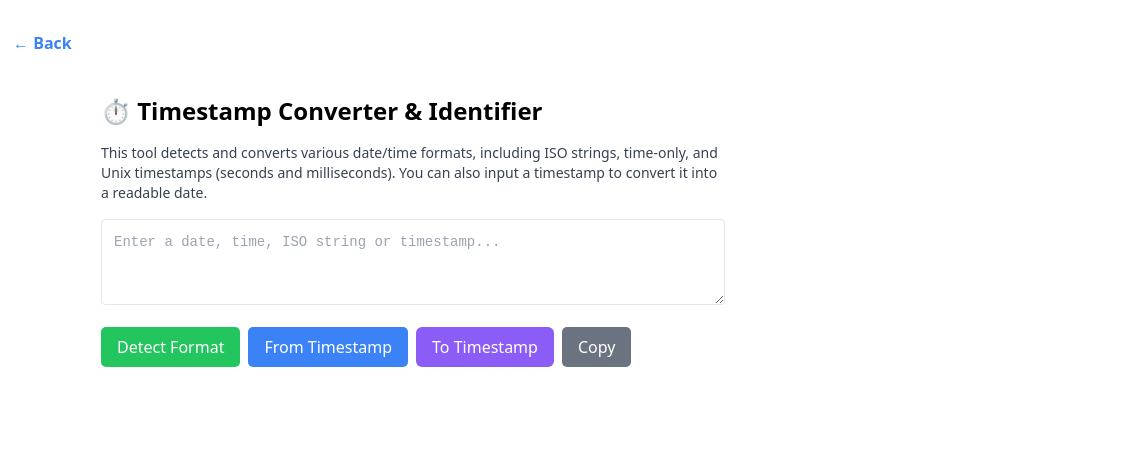
TimestampToolView › detects ISO 8601 format
Step 1. Type "2024-06-01T14:30:00Z" into the text box with placeholder "Enter a date, time, ISO string or timestamp..." → (413, 262), box [101, 219, 725, 305]
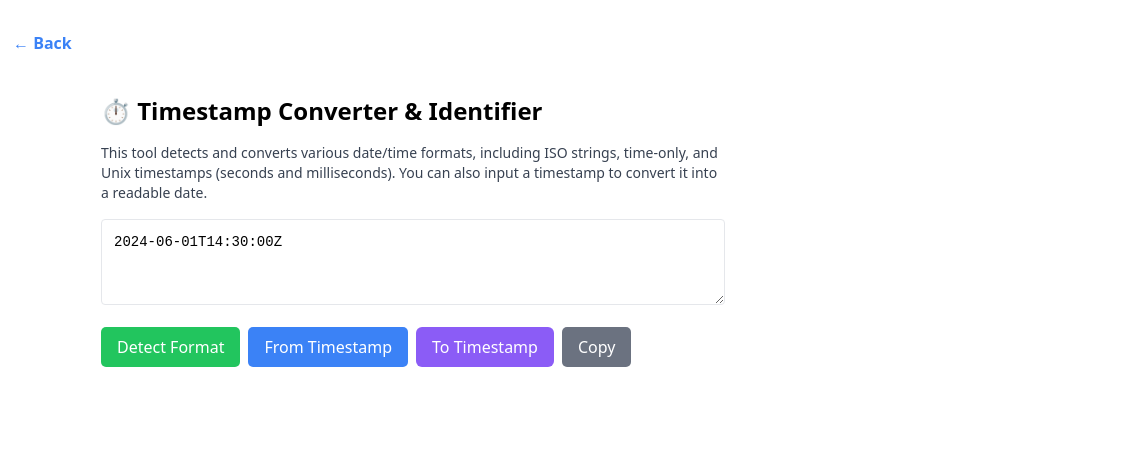
Step 2. Click the button with class "btn-green" → (171, 347), box [101, 327, 240, 367]
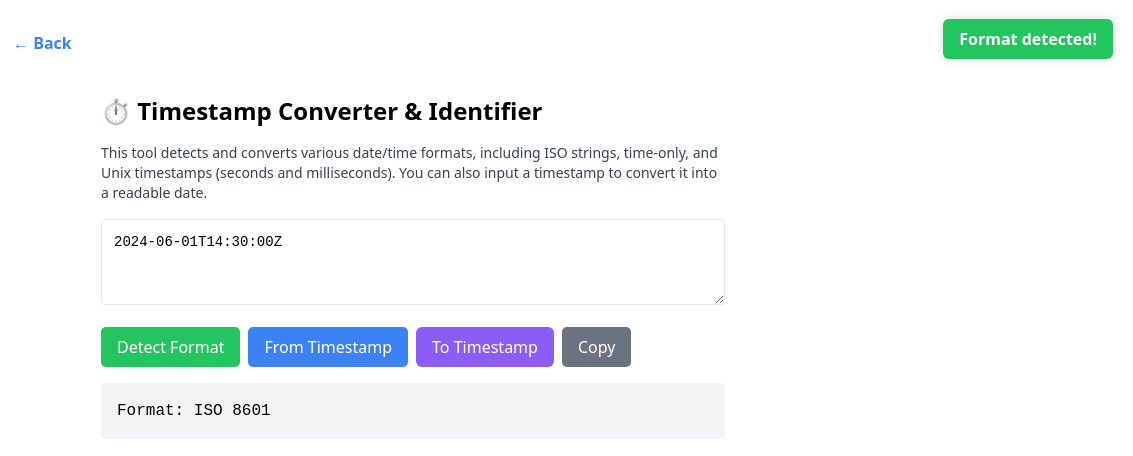
Expected: the text "ISO 8601" is shown, [117, 402, 271, 420]
